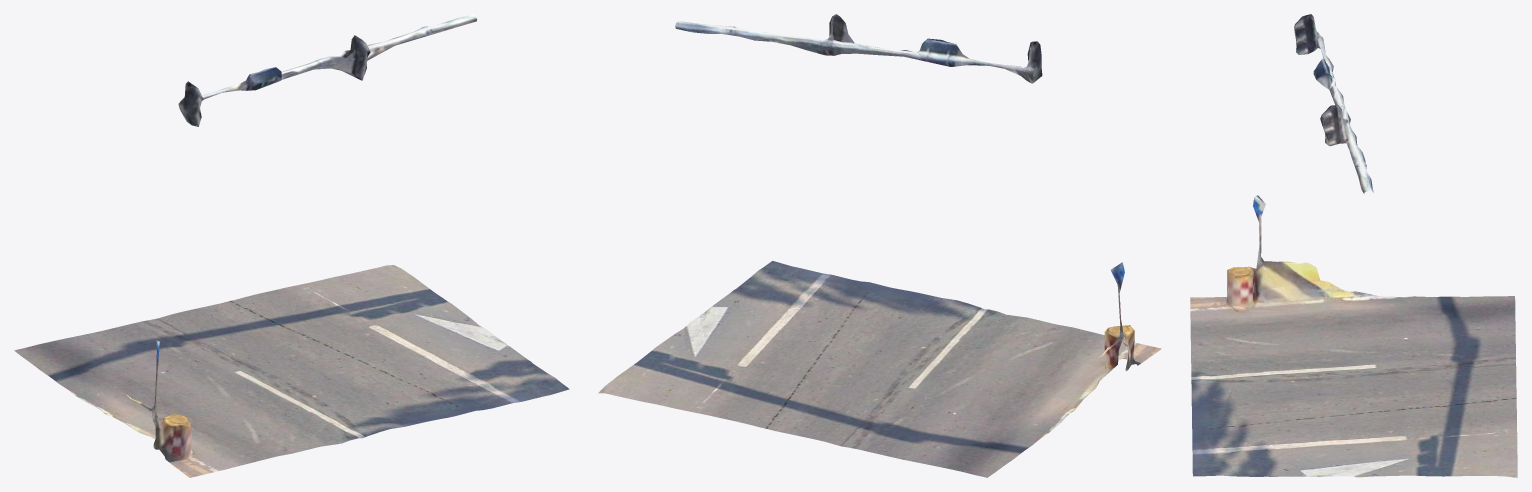
File: Tile_+006_+007_L22_0001020.glb
The picture shows the model from 3 angles, left to right: view 1: azimuth 30°, elevation 25°; view 2: azimuth 150°, elevation 25°; view 3: azimuth 270°, elevation 25°; orthographic projection. The views are drawn at different scales.
Visible parts, largest first — view 1: rtc; view 2: rtc; view 3: rtc.
Boxes of the visible parts, bbox=[...] form: rtc: bbox=[14, 14, 569, 477]; rtc: bbox=[598, 14, 1161, 477]; rtc: bbox=[1190, 14, 1517, 477].
Bounding box in the file's own units: 8.86 × 7.55 × 7.02.
1 material, 1 textured.
